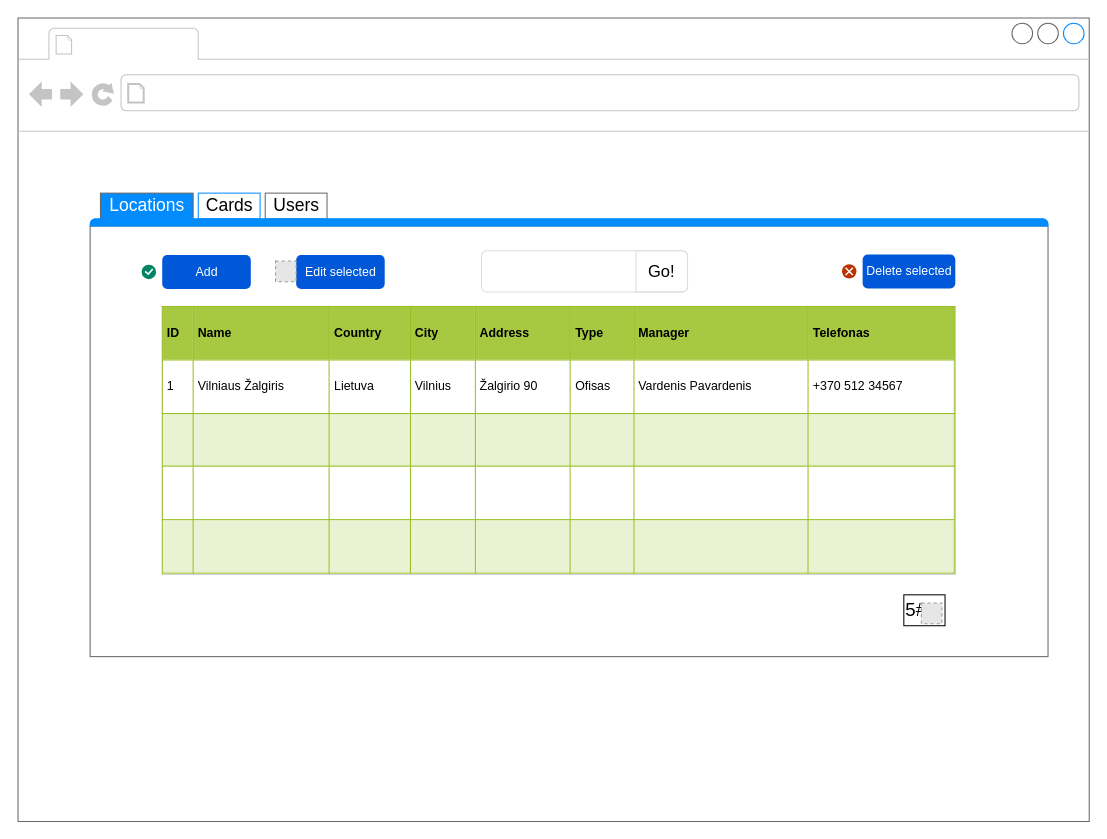
The diagram is 1107 pixels wide and 839 high, and some of its shapes have lost their labels. Grey dashed boxes stand in for pictures. The centre of each missing label's shape, as x and y in pixels:
"Page 1" goes at [136,43].
"Search..." goes at [584,271].
"www.webapp.com" goes at [280,93].
